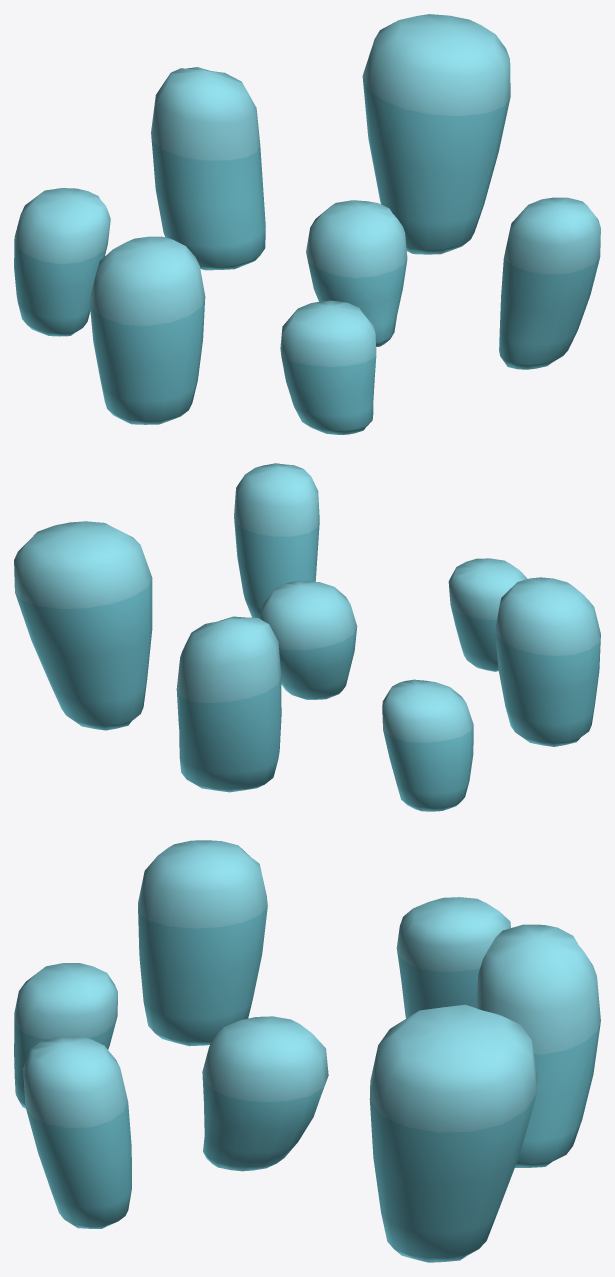
File: Anemone_B_02.fbx
3 views of the same model, one above another, from view 1: azimuth 30°, elevation 25°; view 2: azimuth 150°, elevation 25°; view 3: azimuth 270°, elevation 25° (orthographic). The views are drawn at different scales.
Parts seen in each view (by area): view 1: Anemone_B_02_LOD0; view 2: Anemone_B_02_LOD0; view 3: Anemone_B_02_LOD0.
Part boxes in pixels (bbox=[...]): Anemone_B_02_LOD0: bbox=[14, 14, 600, 434]; Anemone_B_02_LOD0: bbox=[14, 463, 600, 811]; Anemone_B_02_LOD0: bbox=[14, 840, 600, 1262].
Size of what is drawn, in the model's own units: 568 by 218 by 491.
